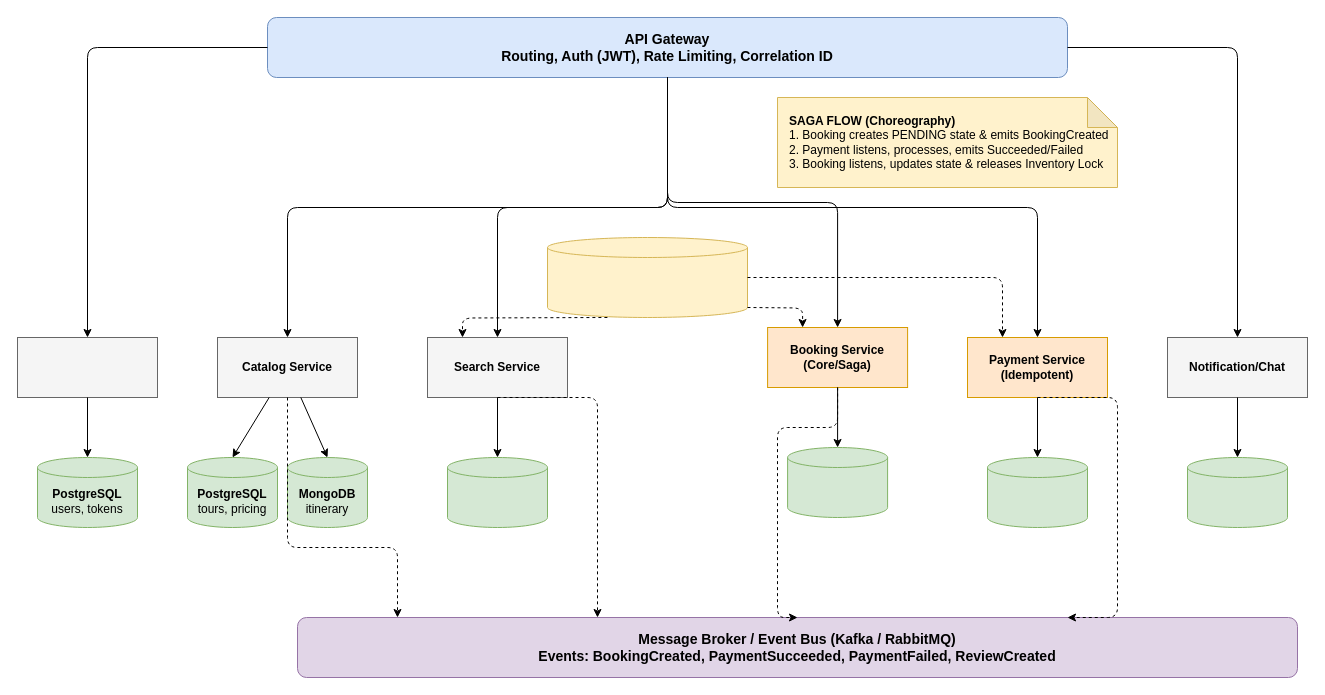
The diagram is 1325 pixels wide and 695 high, and some of its shapes have lost their labels. Here are the shapes that lost their labels. From the top down, the centre of each, then its label:
the point at 647,277: Redis Cache Inventory Lock, Idempotency, Search Cache
the point at 87,367: Identity Service
the point at 497,492: Elasticsearch tours_search
the point at 837,482: PostgreSQL bookings, locks
the point at 1037,492: PostgreSQL payments
the point at 1237,492: MongoDB messages
